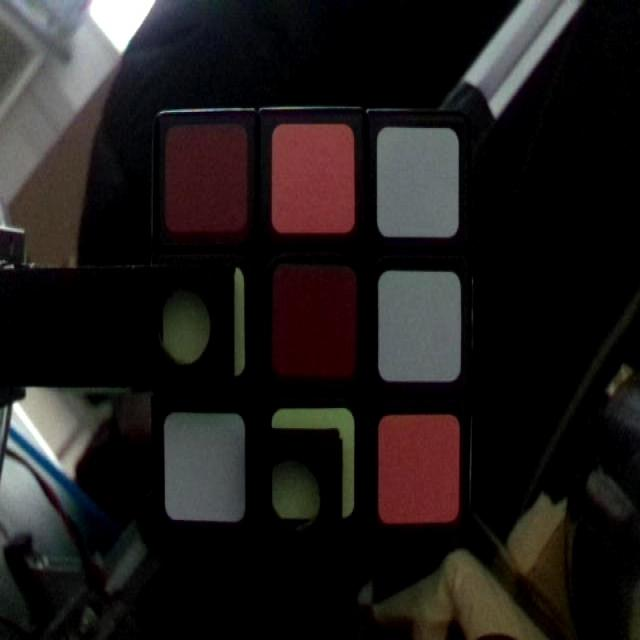o: (272, 124, 351, 232), (382, 421, 455, 520)
r: (168, 128, 249, 236), (276, 269, 355, 371)
w: (377, 129, 454, 236), (382, 270, 457, 374), (166, 413, 241, 515)
y: (163, 265, 243, 371), (274, 413, 351, 516)
